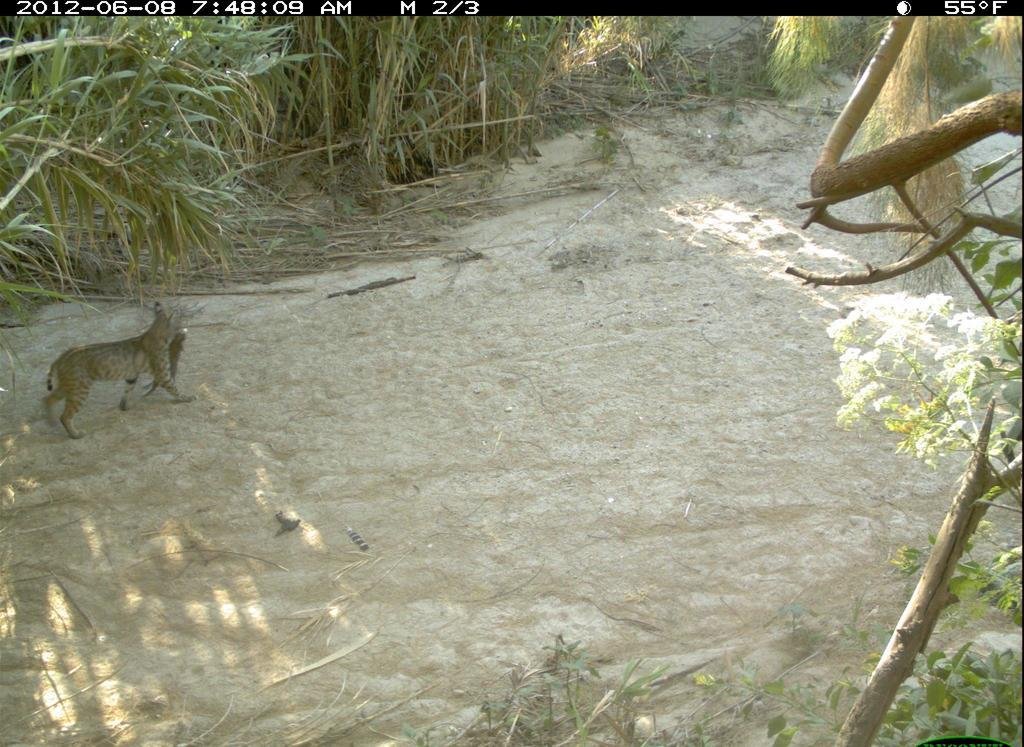bobcat: (38, 289, 213, 434)
